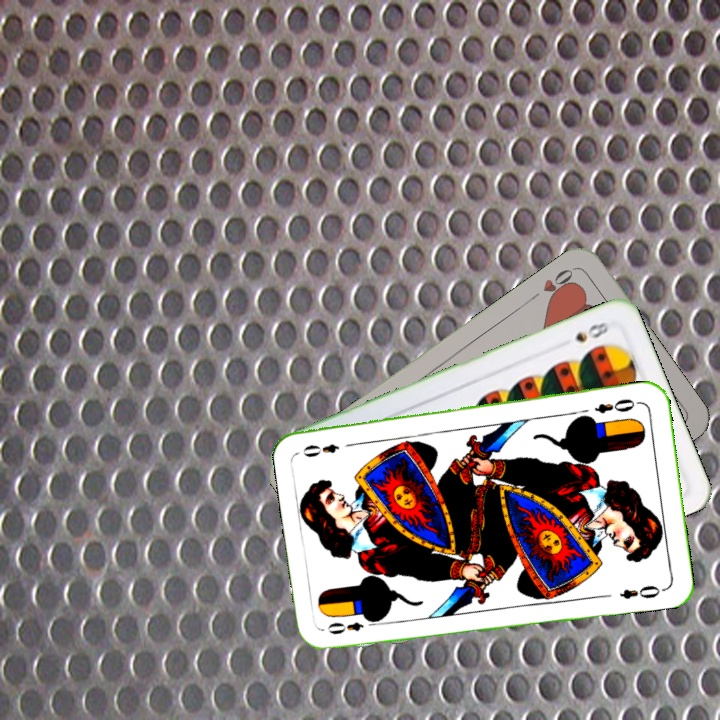EO: (323, 612, 380, 637), (590, 394, 643, 416)
HO: (526, 263, 578, 305)
S8: (571, 318, 612, 345)
